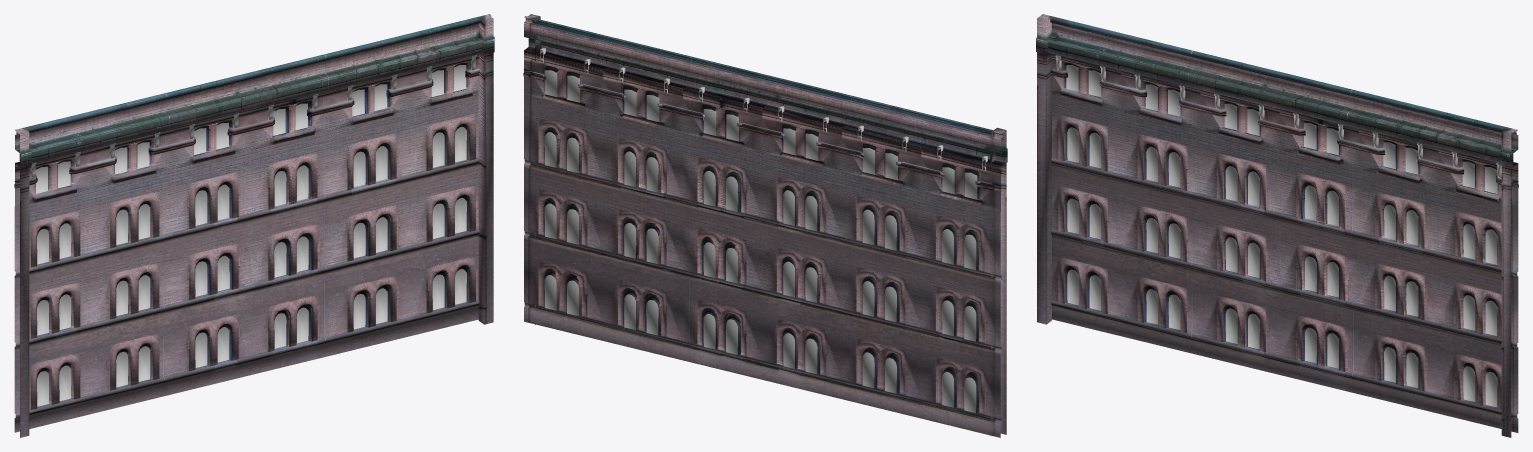
The model's file is building_dock_apartments.obj.
3 renders of one model, left to right at view 1: azimuth 30°, elevation 25°; view 2: azimuth 150°, elevation 25°; view 3: azimuth 330°, elevation 25°, orthographic.
Parts seen in each view (by area): view 1: building_dock_apartments; view 2: building_dock_apartments; view 3: building_dock_apartments.
Boxes of the visible parts, x1,y1,x2,y2 form: building_dock_apartments: (14,14,494,437); building_dock_apartments: (523,14,1007,437); building_dock_apartments: (1036,14,1518,437).
Size of the model in its own units: 4.99 by 3.05 by 0.1471.
